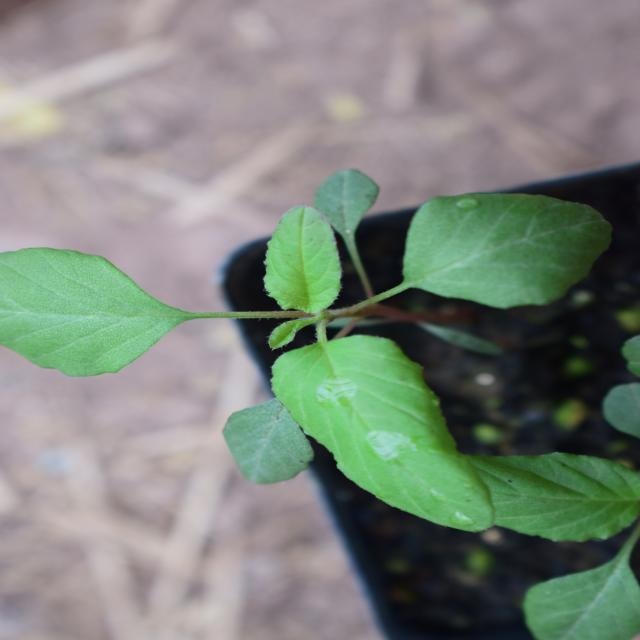pigweed: (136, 0, 461, 626)
